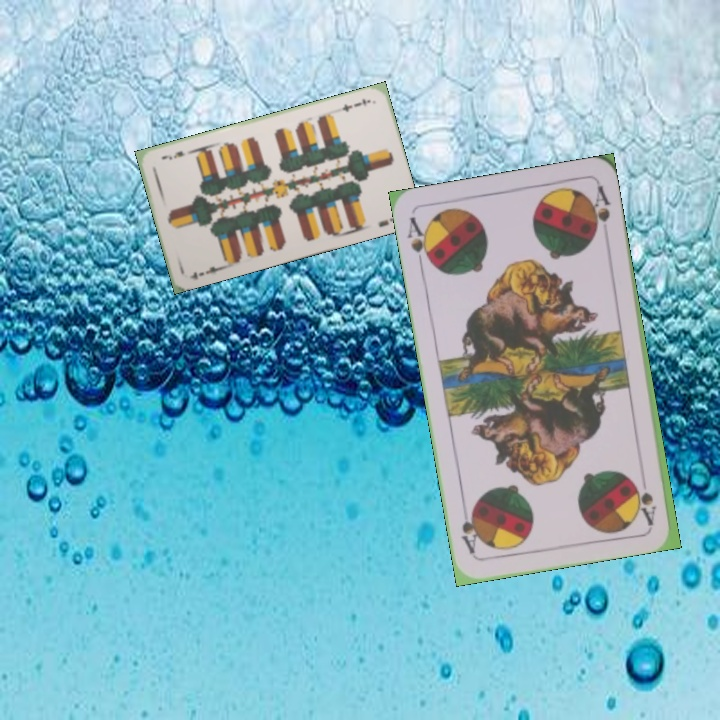E7: (185, 262, 225, 282), (338, 95, 373, 114)
SA: (403, 213, 436, 272), (636, 467, 659, 527)
